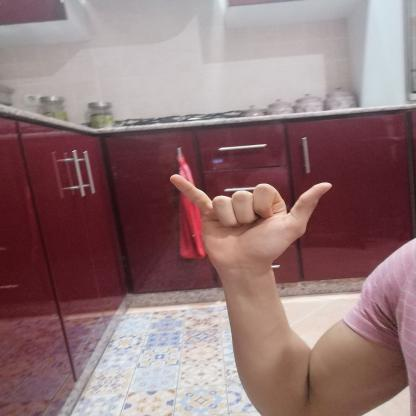YA: (157, 166, 344, 279)
